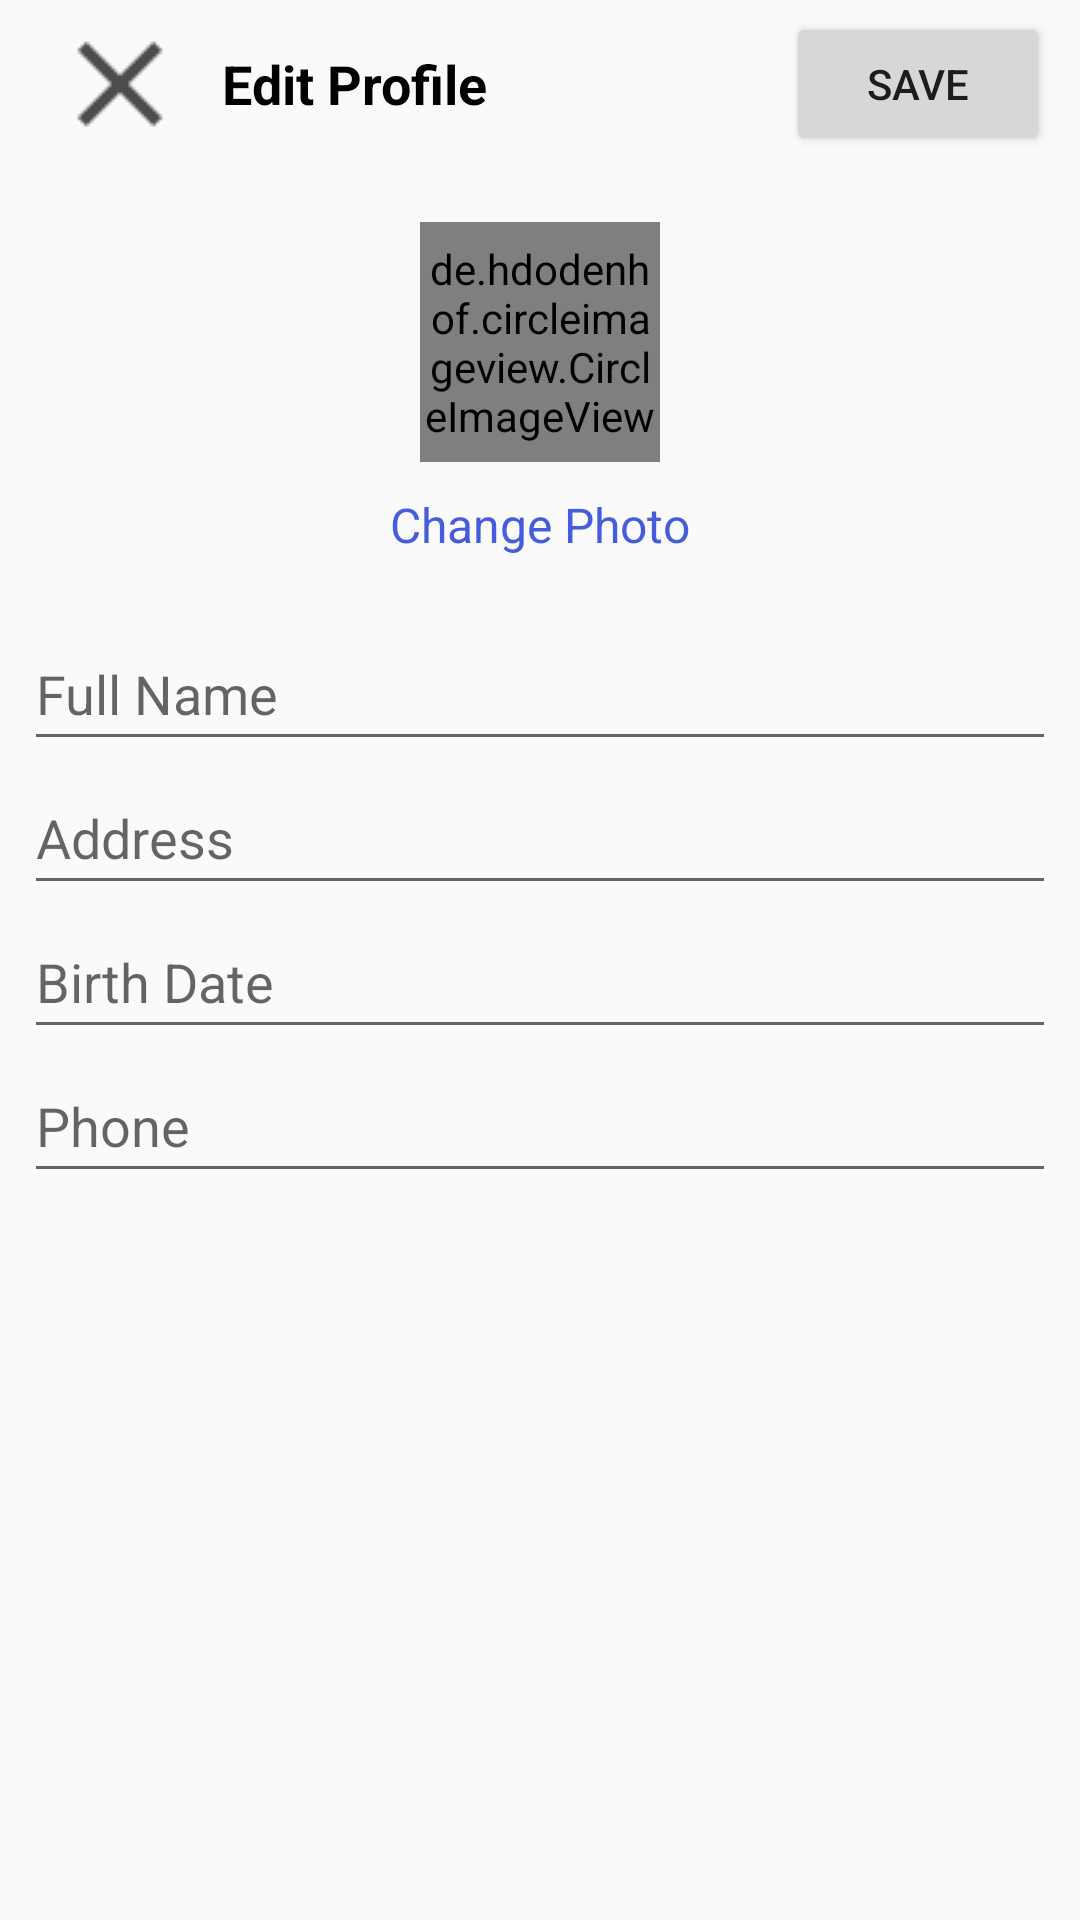

Screen size 1080x1920. Icon name, then its center in pixels as (x=x, y=y):
close: (x=120, y=84)
